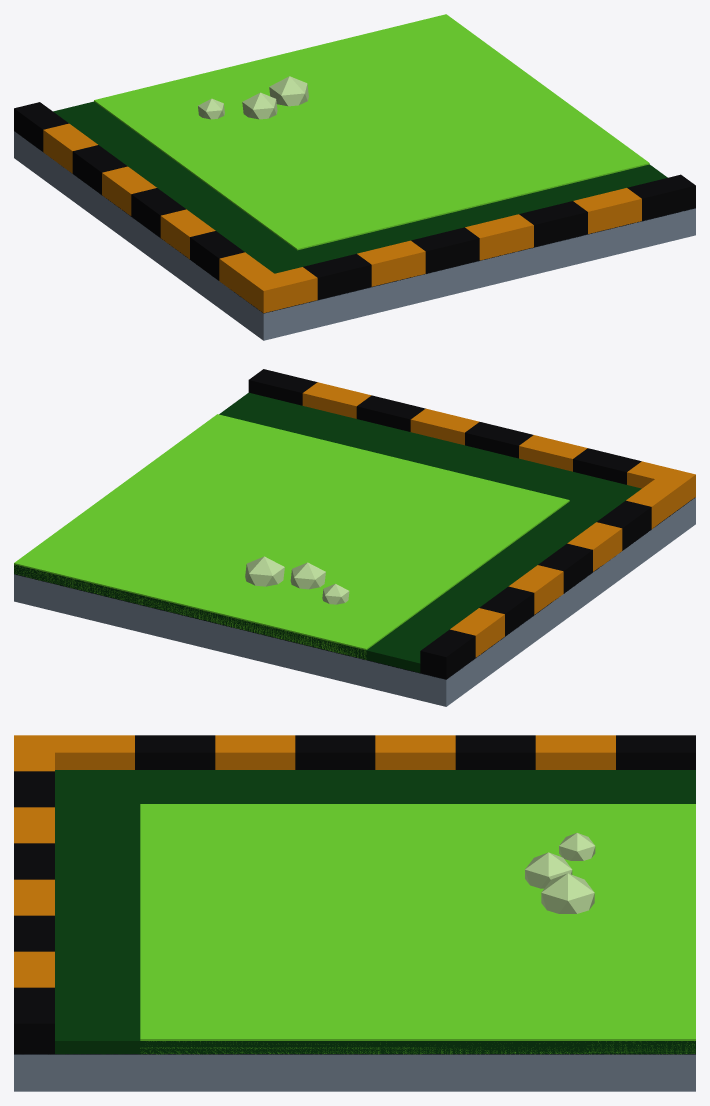
File: SM_Acid_Pool_Corner_2x2.glb
The picture shows the model from 3 angles, top to bottom: view 1: azimuth 30°, elevation 25°; view 2: azimuth 150°, elevation 25°; view 3: azimuth 270°, elevation 25°; orthographic projection. The views are drawn at different scales.
Visible parts, largest first — view 1: SM_Acid_Pool_Corner_2x2-col; view 2: SM_Acid_Pool_Corner_2x2-col; view 3: SM_Acid_Pool_Corner_2x2-col.
Boxes of the visible parts, bbox=[...] form: SM_Acid_Pool_Corner_2x2-col: bbox=[14, 14, 695, 340]; SM_Acid_Pool_Corner_2x2-col: bbox=[14, 369, 695, 706]; SM_Acid_Pool_Corner_2x2-col: bbox=[14, 735, 695, 1091].
Bounding box in the file's own units: 2 × 0.2672 × 2.
